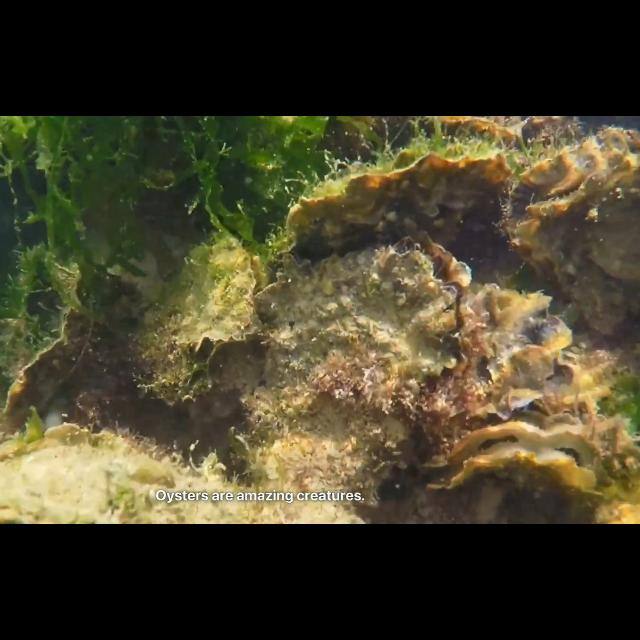Oyster-Closed: (283, 154, 515, 270), (0, 308, 136, 440), (114, 477, 358, 525)
Oyster-Open: (252, 228, 478, 500), (506, 124, 640, 343), (1, 420, 176, 524), (417, 421, 615, 505), (470, 282, 576, 420), (183, 249, 269, 365), (131, 291, 215, 405)
